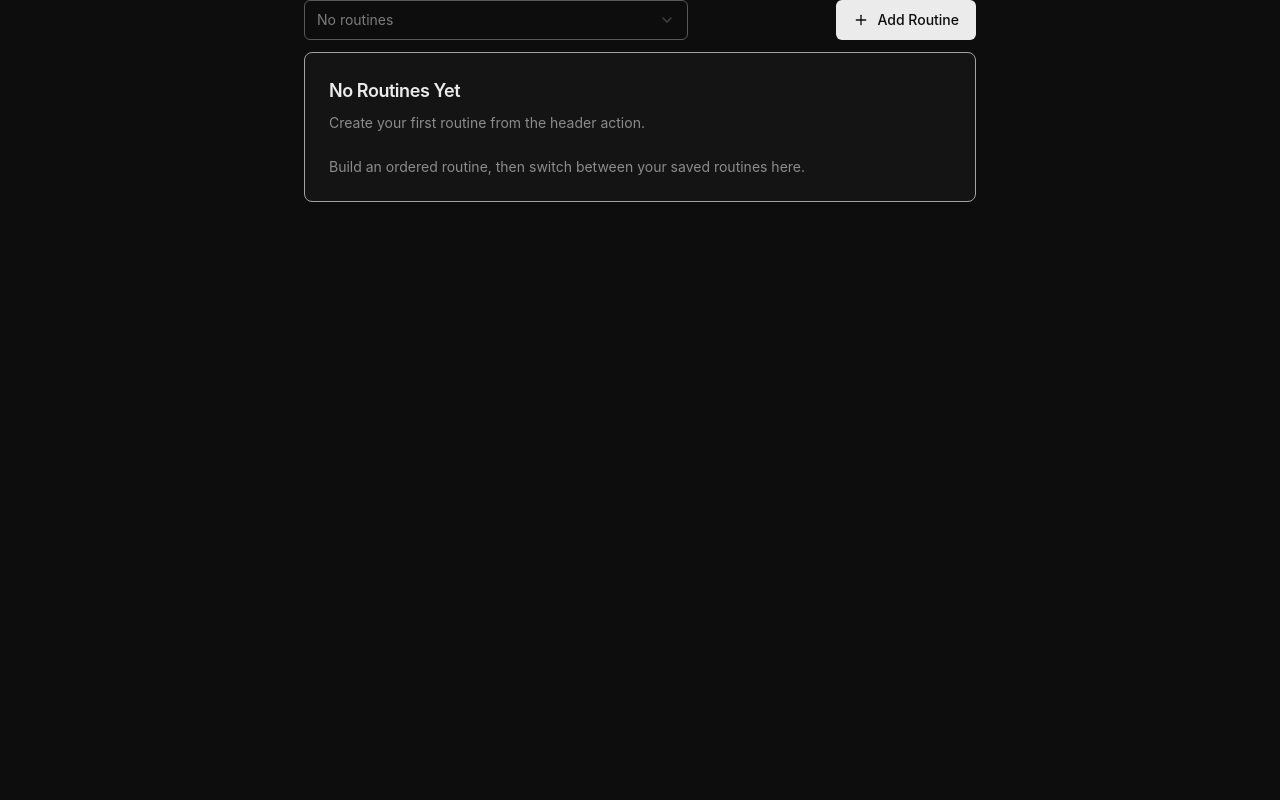
Test: ExerciseRoutinesView › lists exercises alphabetically in the type-to-find popover and adds the highlighted result with the keyboard
Later steps or results of the test are not shown.
Press the mouse on the button "Add Routine" at (906, 20), box 836,0 -> 976,40
Click the button "Add Routine" at (906, 20), box 836,0 -> 976,40
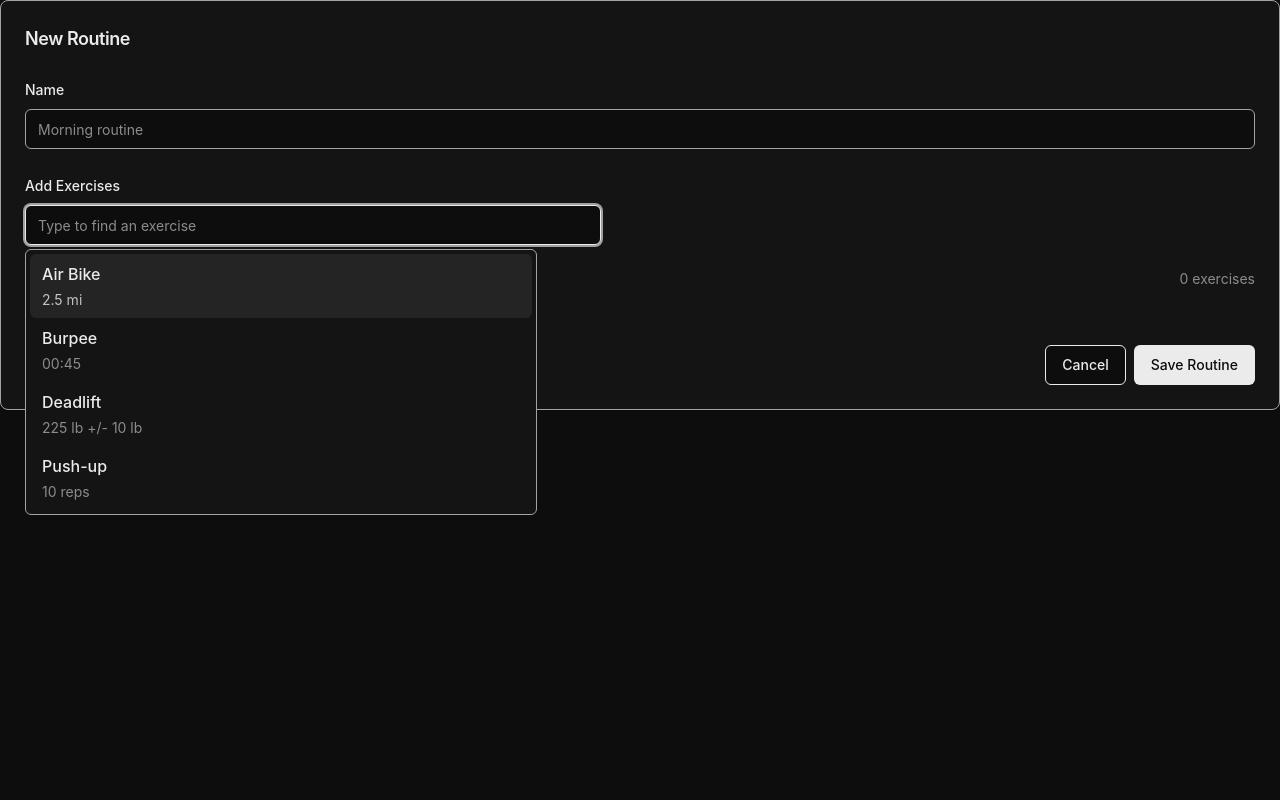
expect the dropdown with id "exercise-routine-definition-search" is shown: met, box 25,205 -> 601,245
expect the option "Air Bike 2.5 mi" is shown: met, box 30,254 -> 532,318
expect the option "Burpee 00:45" is shown: met, box 30,318 -> 532,382
